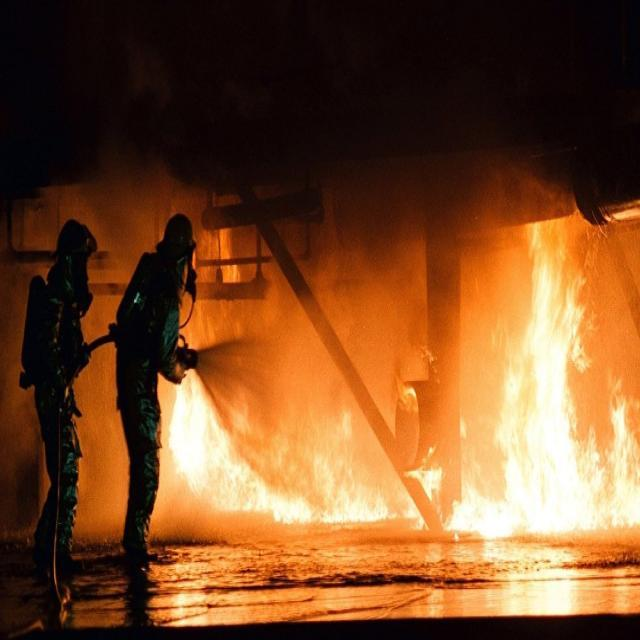Fire: (448, 218, 640, 536), (168, 372, 388, 525), (182, 221, 244, 349), (399, 434, 449, 536), (393, 368, 420, 414), (420, 344, 441, 386)
Smoke: (0, 0, 640, 230), (264, 241, 428, 376), (69, 331, 132, 538)
